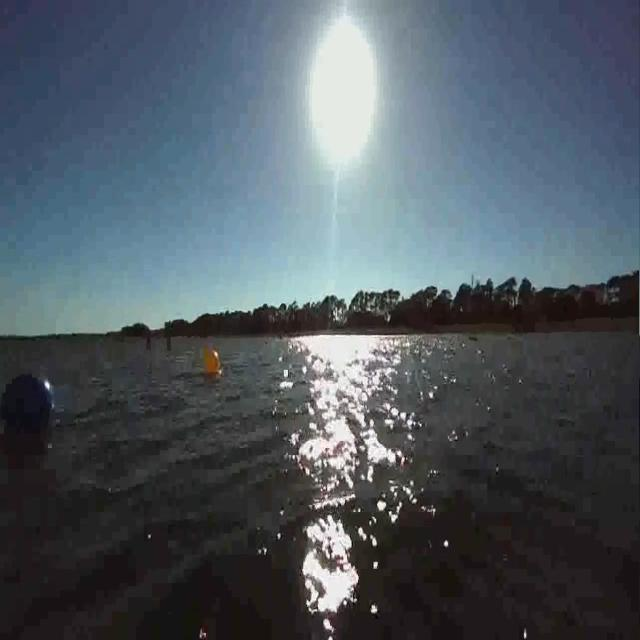blue-buoy: (0, 371, 57, 443)
